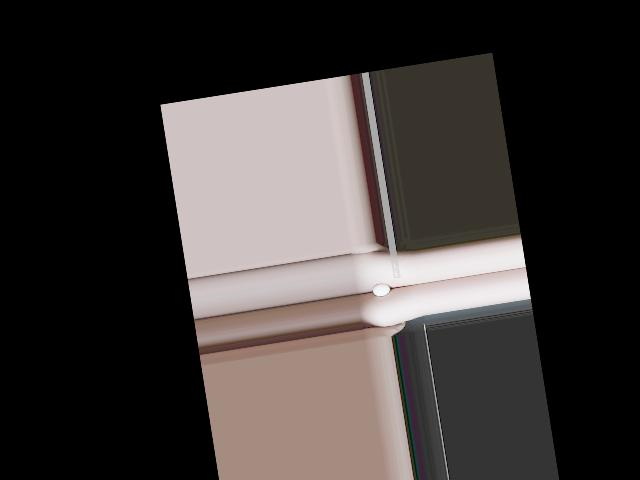egg: (372, 282, 391, 297)
